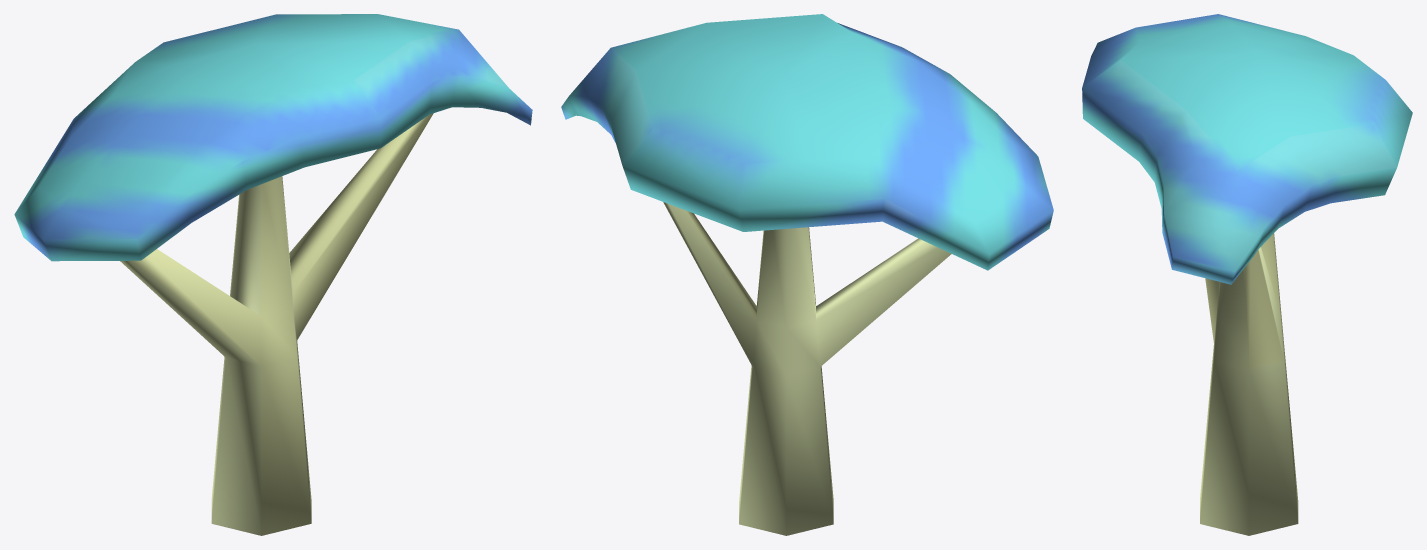
Rendered from ShroomPlantState03.gltf.
3 views of the same model, side by side, from view 1: azimuth 30°, elevation 25°; view 2: azimuth 150°, elevation 25°; view 3: azimuth 270°, elevation 25° (orthographic). The views are drawn at different scales.
Parts seen in each view (by area): view 1: ShroomPlantV4Blossom, ShroomPlantV4Stem; view 2: ShroomPlantV4Blossom, ShroomPlantV4Stem; view 3: ShroomPlantV4Blossom, ShroomPlantV4Stem.
Boxes of the visible parts, x1,y1,x2,y2 form: ShroomPlantV4Blossom: [14, 14, 532, 261]; ShroomPlantV4Stem: [120, 113, 433, 535]; ShroomPlantV4Blossom: [561, 14, 1053, 270]; ShroomPlantV4Stem: [663, 202, 951, 535]; ShroomPlantV4Blossom: [1082, 14, 1412, 284]; ShroomPlantV4Stem: [1200, 233, 1298, 535].
Size of the model in its own units: 1.28 by 1.17 by 0.7527.
1 material, 1 textured.
